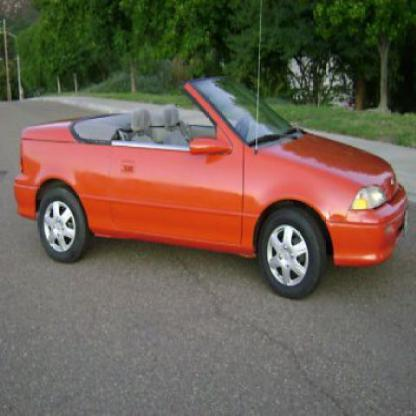Vehicle: (17, 74, 408, 299)
